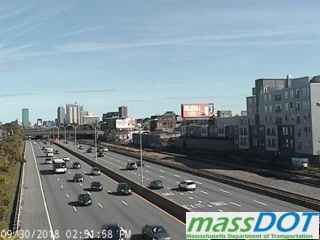car: (101, 223, 131, 240), (141, 225, 172, 240), (178, 179, 198, 191), (52, 159, 68, 173), (117, 182, 132, 195), (77, 193, 92, 205), (150, 180, 164, 189), (90, 182, 103, 191), (73, 174, 84, 183), (90, 167, 101, 176), (126, 162, 138, 170), (72, 162, 82, 170), (46, 148, 53, 157), (96, 151, 105, 157), (44, 158, 53, 164), (136, 160, 145, 165), (54, 148, 61, 154), (77, 145, 85, 150), (101, 146, 108, 151), (62, 156, 70, 160)
